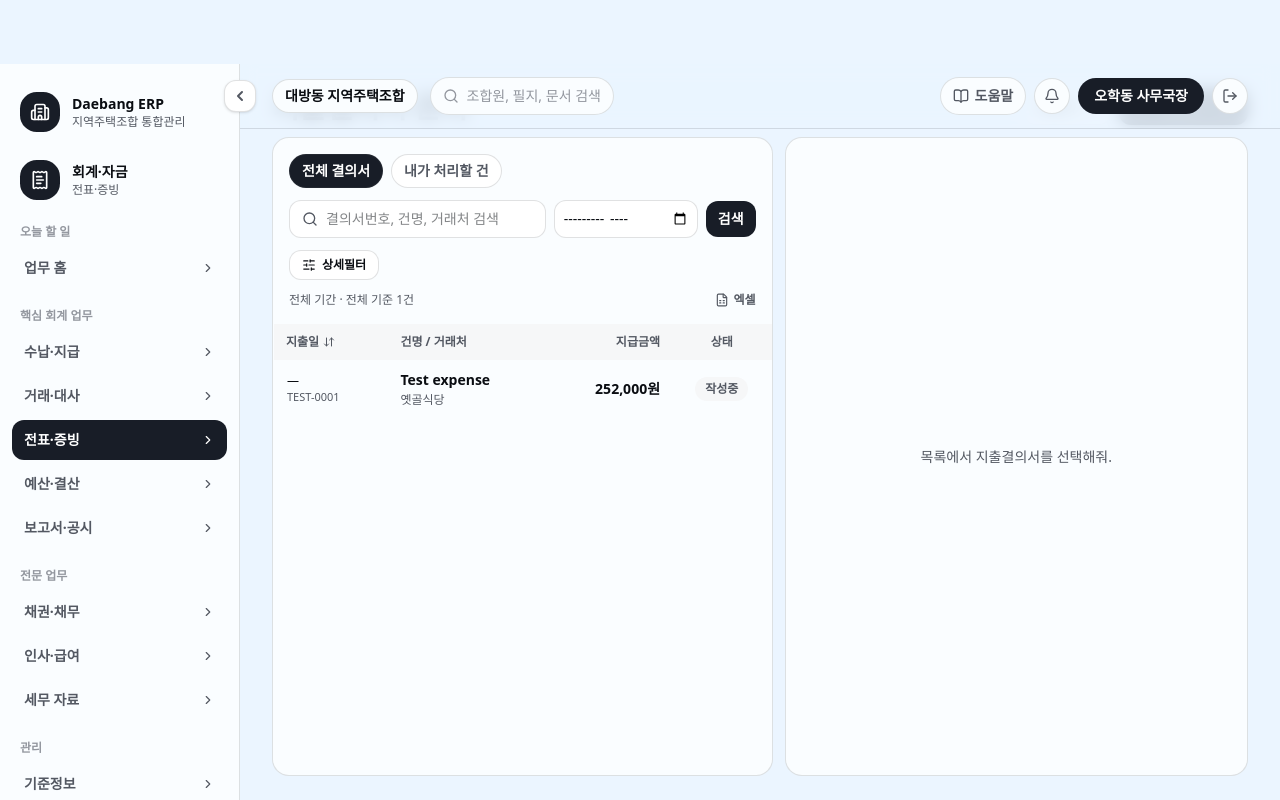
Test: ExpenseResolutionPage › shows an approval-focused single-expense detail workspace
Later steps or results of the test are not shown.
Click the button with aria-label "상세보기" at [470, 380], box x1=400 y1=370 x2=541 y2=390
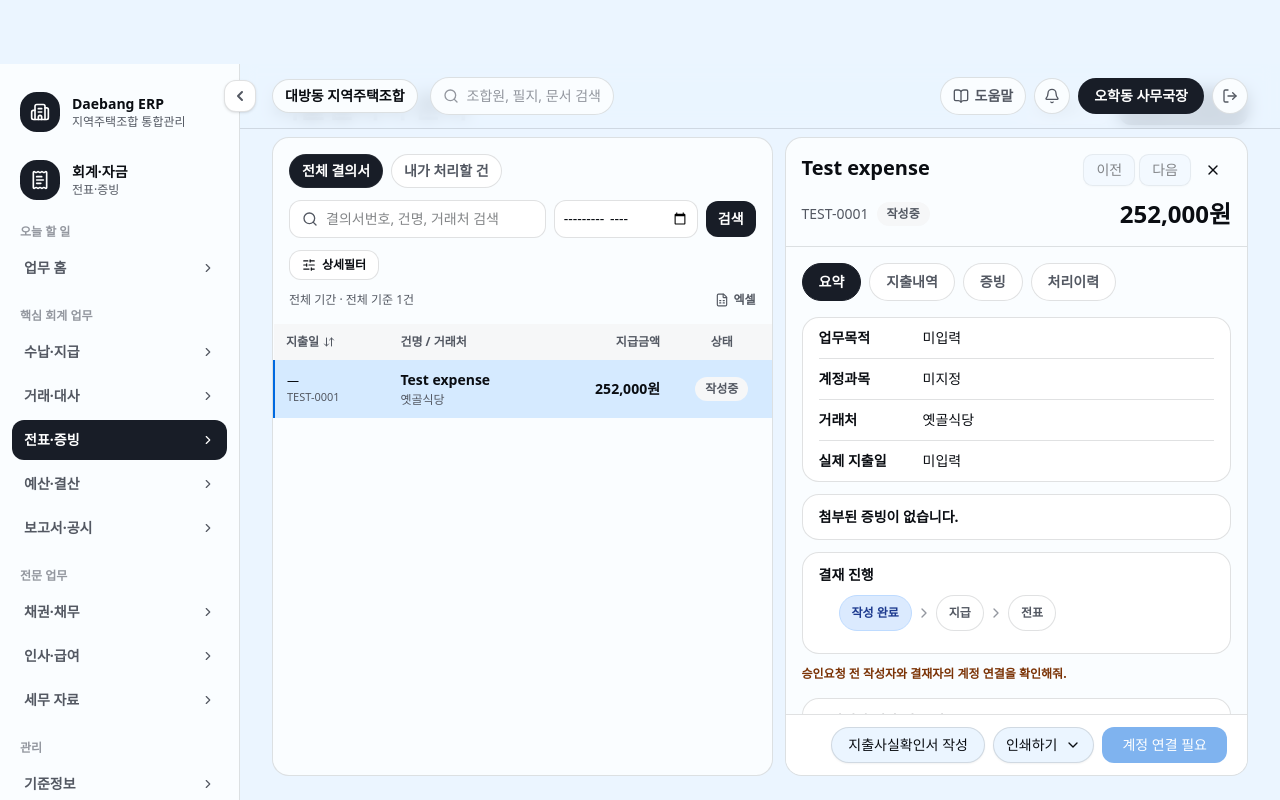
Now the text "옛골식당" below "계정과목" is shown, box x1=922 y1=410 x2=974 y2=429
Now the heading "결재 진행" is shown, box x1=818 y1=565 x2=874 y2=584
